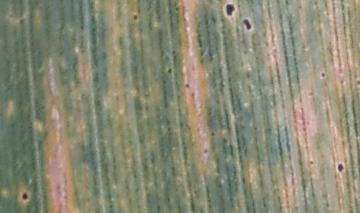tarspot: (224, 3, 236, 17), (241, 18, 252, 30), (337, 161, 344, 173), (22, 192, 29, 201), (203, 147, 209, 155), (184, 83, 191, 89), (320, 71, 326, 78), (167, 66, 172, 74), (133, 14, 138, 21), (309, 159, 314, 165), (211, 130, 215, 136), (357, 79, 360, 85)
